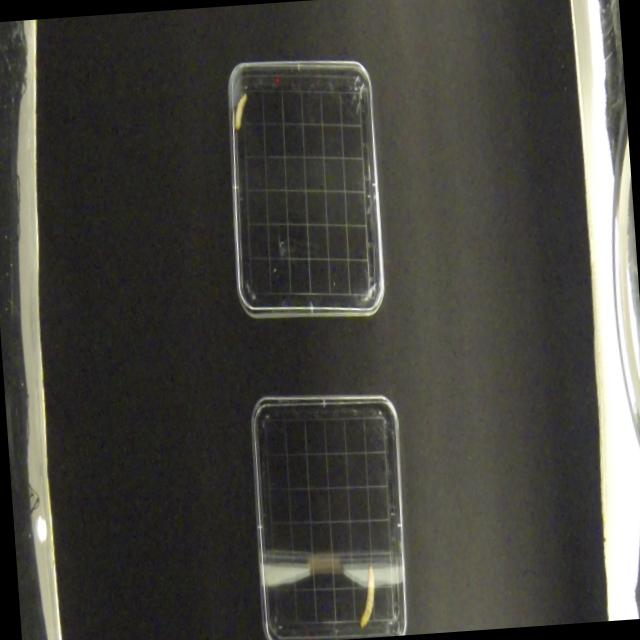larva: (354, 562, 379, 631), (232, 88, 250, 135)
